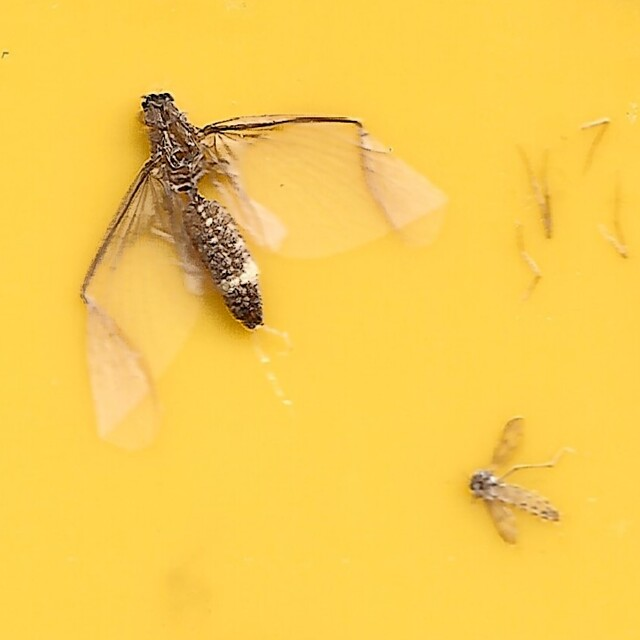Ephemeroptera: (77, 90, 447, 440)
Nematocera: (464, 416, 563, 550)
